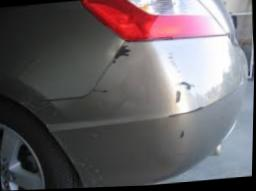Bumper: (23, 37, 215, 188)
